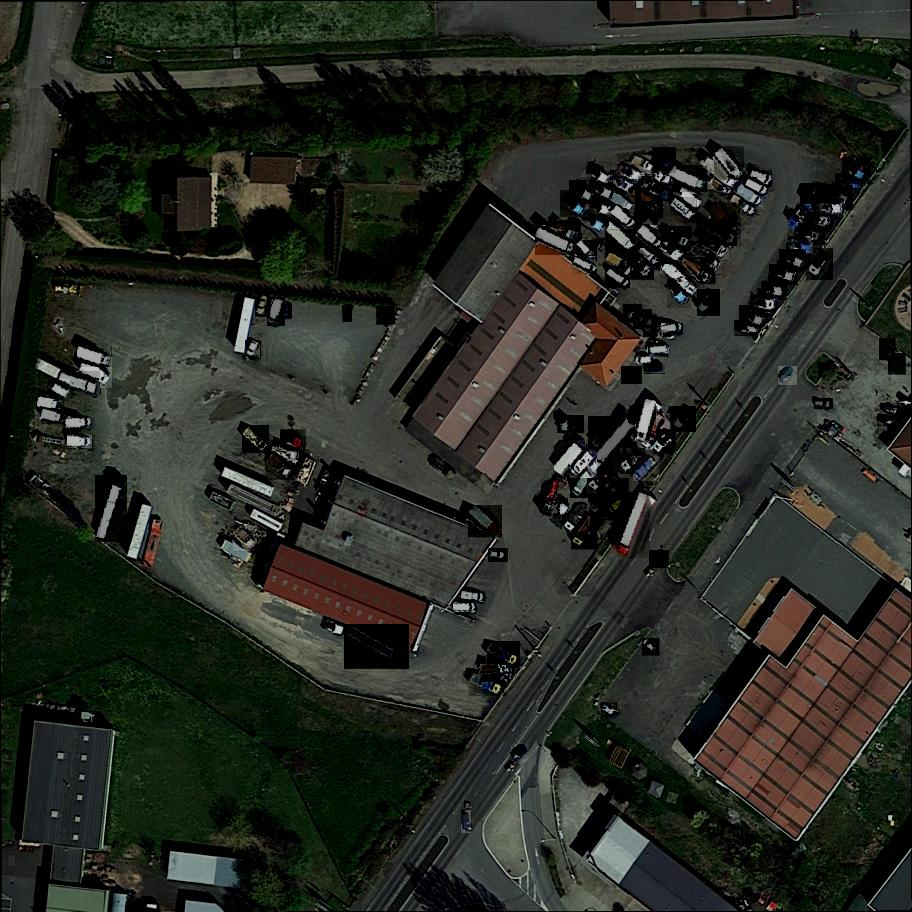large-vehicle: (344, 624, 409, 671), (588, 416, 639, 474), (617, 491, 651, 558), (95, 475, 128, 543), (659, 259, 701, 298), (588, 478, 629, 517), (702, 156, 741, 190), (536, 227, 580, 256), (604, 220, 640, 254), (554, 440, 588, 476), (640, 411, 671, 450), (468, 506, 503, 539), (79, 357, 115, 389), (631, 184, 663, 219), (588, 460, 620, 495), (711, 203, 741, 240), (668, 166, 709, 193), (697, 220, 739, 246), (678, 257, 716, 285), (696, 230, 729, 262), (690, 243, 723, 275), (58, 372, 102, 396), (714, 146, 745, 180), (468, 671, 507, 697), (485, 642, 522, 669), (562, 501, 590, 536), (571, 516, 598, 551), (806, 248, 834, 281), (657, 226, 693, 251), (625, 249, 654, 280), (265, 453, 297, 481), (606, 253, 639, 280), (636, 399, 656, 443), (639, 177, 674, 202), (841, 157, 872, 185), (76, 345, 113, 368), (243, 426, 272, 455), (569, 450, 598, 479), (542, 478, 563, 518), (666, 279, 693, 309), (729, 193, 760, 219), (571, 467, 596, 499), (232, 525, 260, 553), (787, 204, 814, 233), (607, 190, 637, 216), (651, 147, 678, 175), (657, 239, 686, 265), (669, 198, 698, 224), (825, 185, 855, 210), (740, 305, 771, 329), (550, 220, 582, 243), (632, 457, 659, 484), (560, 190, 587, 217), (619, 448, 647, 474), (800, 183, 828, 209), (670, 405, 696, 432), (637, 244, 664, 270), (634, 206, 659, 234), (735, 184, 764, 208), (768, 264, 799, 286), (610, 206, 636, 232), (779, 249, 807, 273), (569, 180, 597, 204), (797, 224, 827, 246), (833, 173, 864, 194), (652, 429, 677, 455), (696, 290, 721, 316), (587, 162, 615, 185), (280, 429, 309, 451), (786, 236, 816, 257), (604, 267, 630, 291), (616, 163, 645, 184), (267, 298, 287, 328), (637, 226, 662, 250), (581, 212, 608, 234), (480, 662, 516, 678), (610, 172, 635, 195), (588, 178, 614, 200), (630, 156, 658, 176), (558, 415, 586, 434), (734, 320, 763, 338), (760, 282, 788, 300), (576, 240, 597, 264), (743, 178, 768, 198), (271, 445, 302, 461), (571, 257, 596, 276), (749, 296, 778, 312), (589, 198, 614, 216), (37, 395, 65, 411), (41, 408, 66, 425), (611, 493, 633, 512), (708, 180, 734, 196), (749, 171, 773, 186), (818, 202, 845, 215), (64, 419, 95, 430), (807, 214, 832, 227), (67, 436, 92, 448), (660, 323, 683, 336), (648, 345, 669, 357), (462, 592, 484, 602), (454, 604, 476, 611)
small-vehicle: (46, 380, 70, 401), (879, 338, 898, 361), (620, 367, 644, 385), (777, 366, 798, 386), (888, 353, 907, 375), (255, 293, 271, 319), (510, 745, 530, 764), (624, 305, 644, 324), (633, 309, 652, 329), (376, 307, 397, 325), (649, 550, 670, 568), (643, 638, 661, 657), (642, 316, 658, 337), (246, 340, 262, 359), (880, 404, 901, 418), (461, 810, 473, 834), (601, 702, 618, 718), (489, 548, 508, 562), (877, 415, 897, 428), (814, 398, 833, 410), (636, 354, 655, 366), (282, 303, 294, 320), (645, 364, 665, 373), (343, 305, 353, 322)
